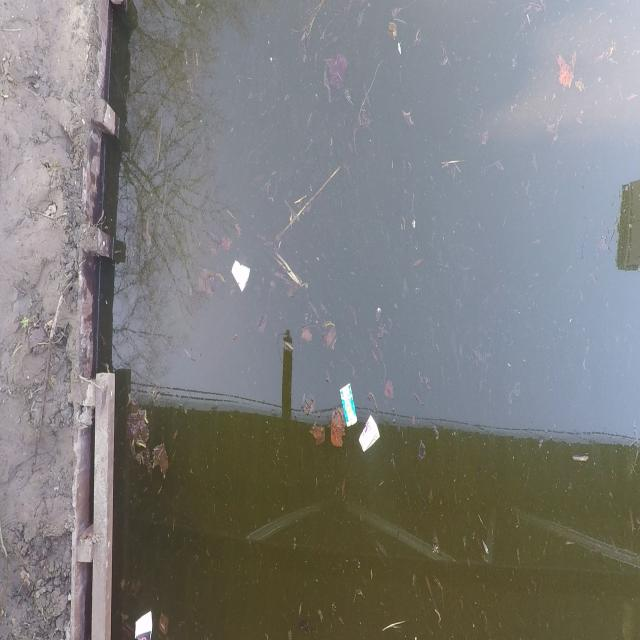Non plastique: (335, 378, 361, 434), (357, 415, 383, 457), (230, 256, 254, 298)
